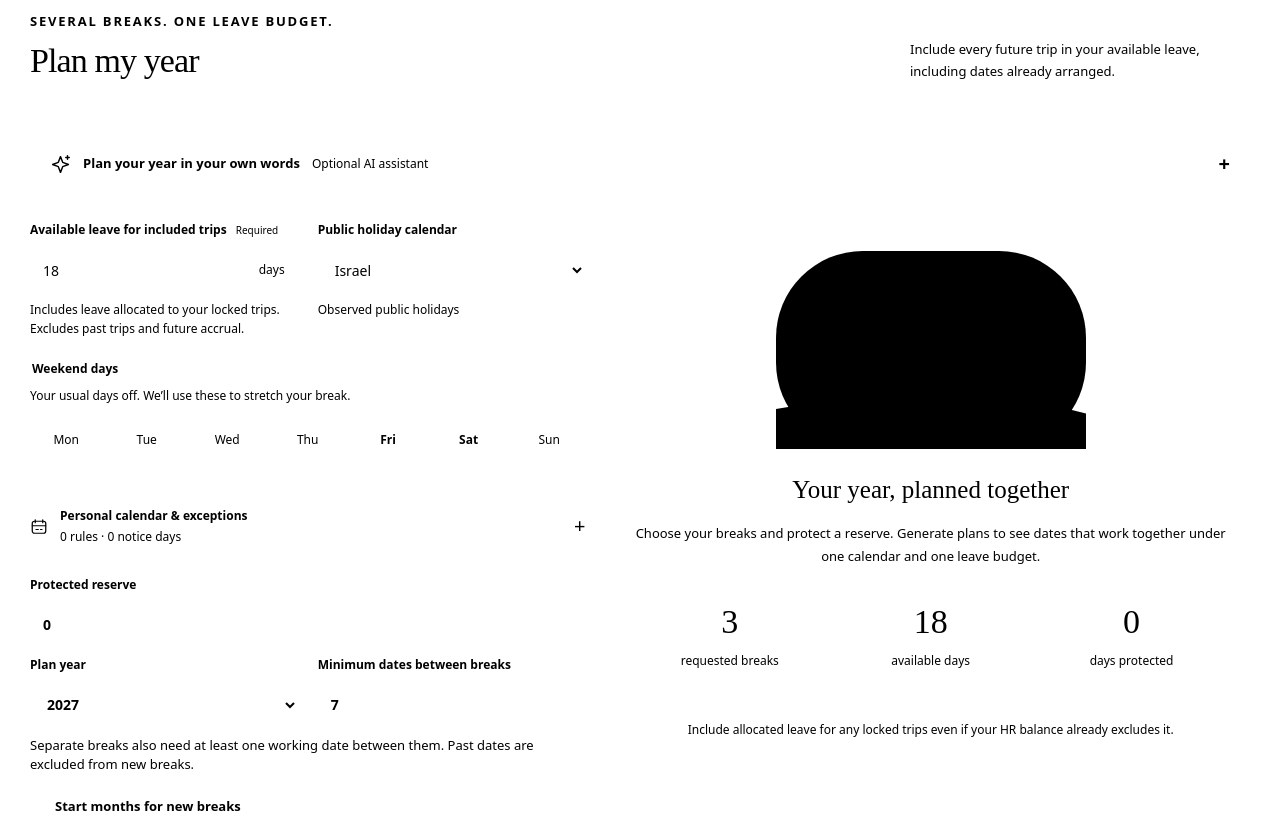
Test case: locking a calculated break only edits the draft until explicit recalculation
Replace the text in the number field labelled "Protected reserve" with "3" at (164, 625), box [30,602,298,648]
(page scrolled)
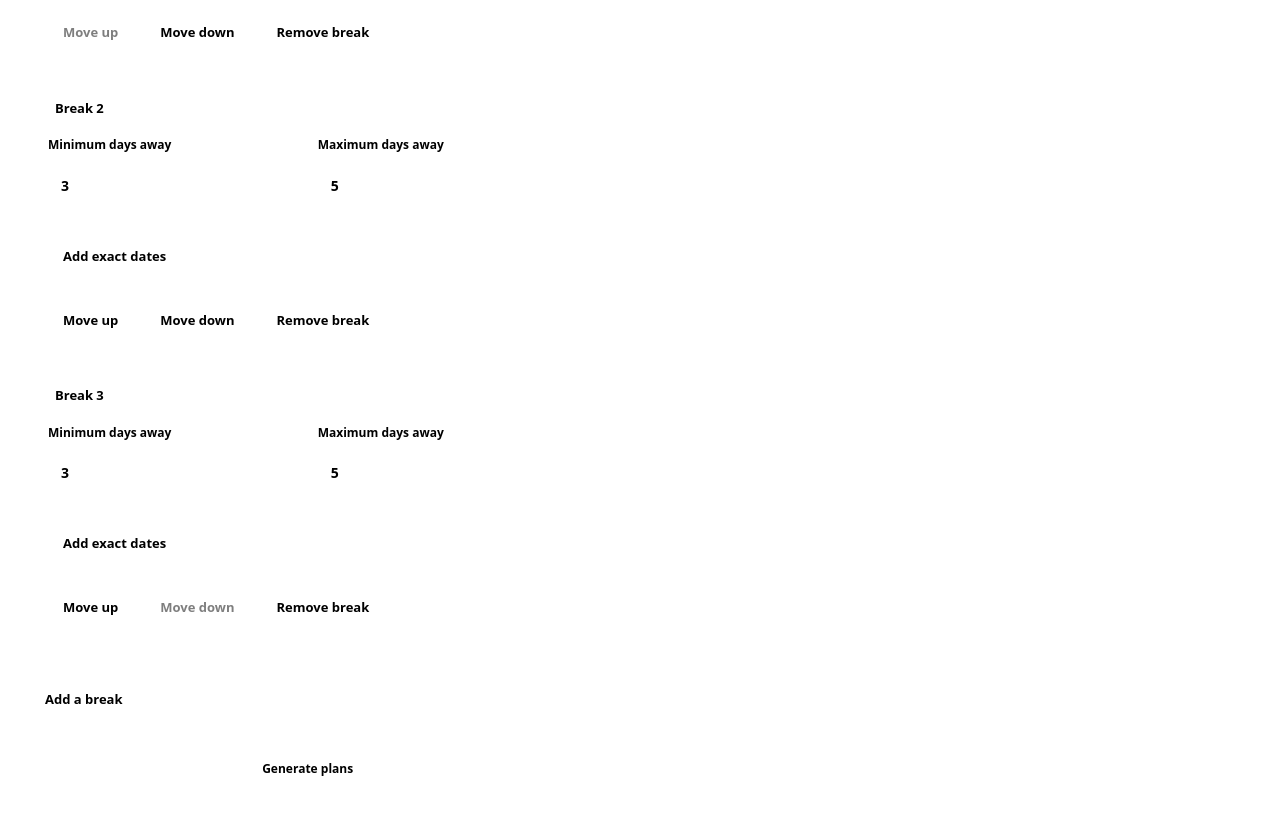
Click the button "Generate plans".
click(308, 769)  # box [30,746,585,792]
(page scrolled)
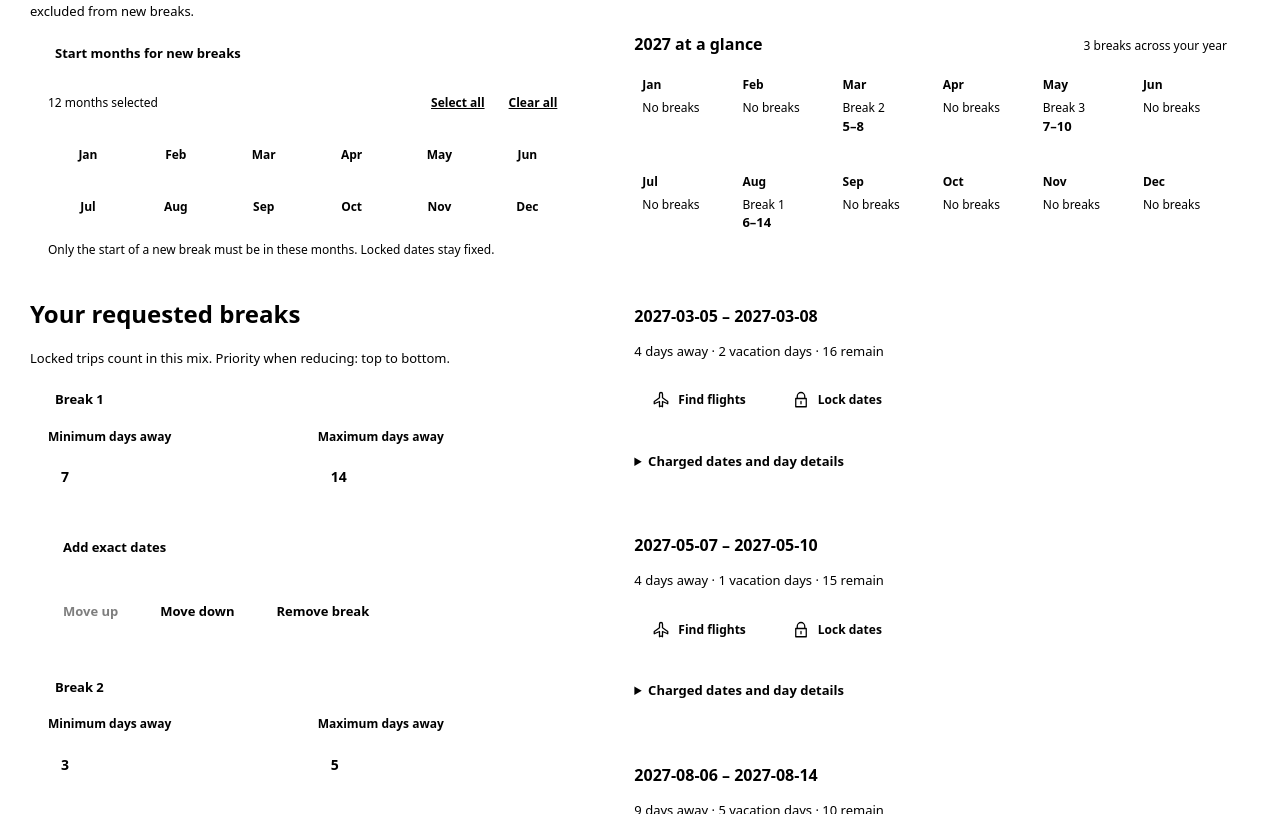
Click the button with aria-label "Lock Break 2 dates".
click(837, 400)  # box [774,377,900,423]
(page scrolled)
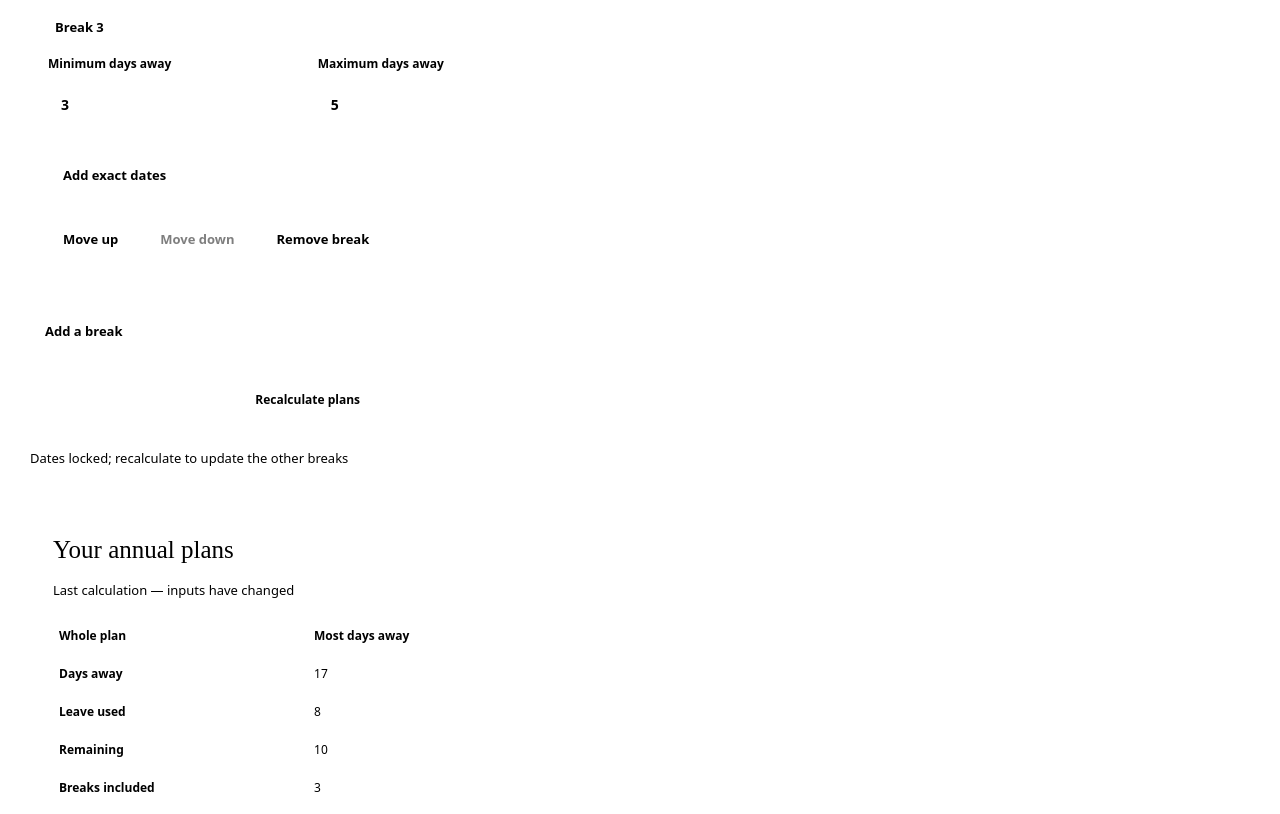
Check: the text "Last calculation — inputs have changed" is shown, box [53,581,294,599]
Click the button "Recalculate plans".
click(308, 400)  # box [30,378,585,424]
(page scrolled)
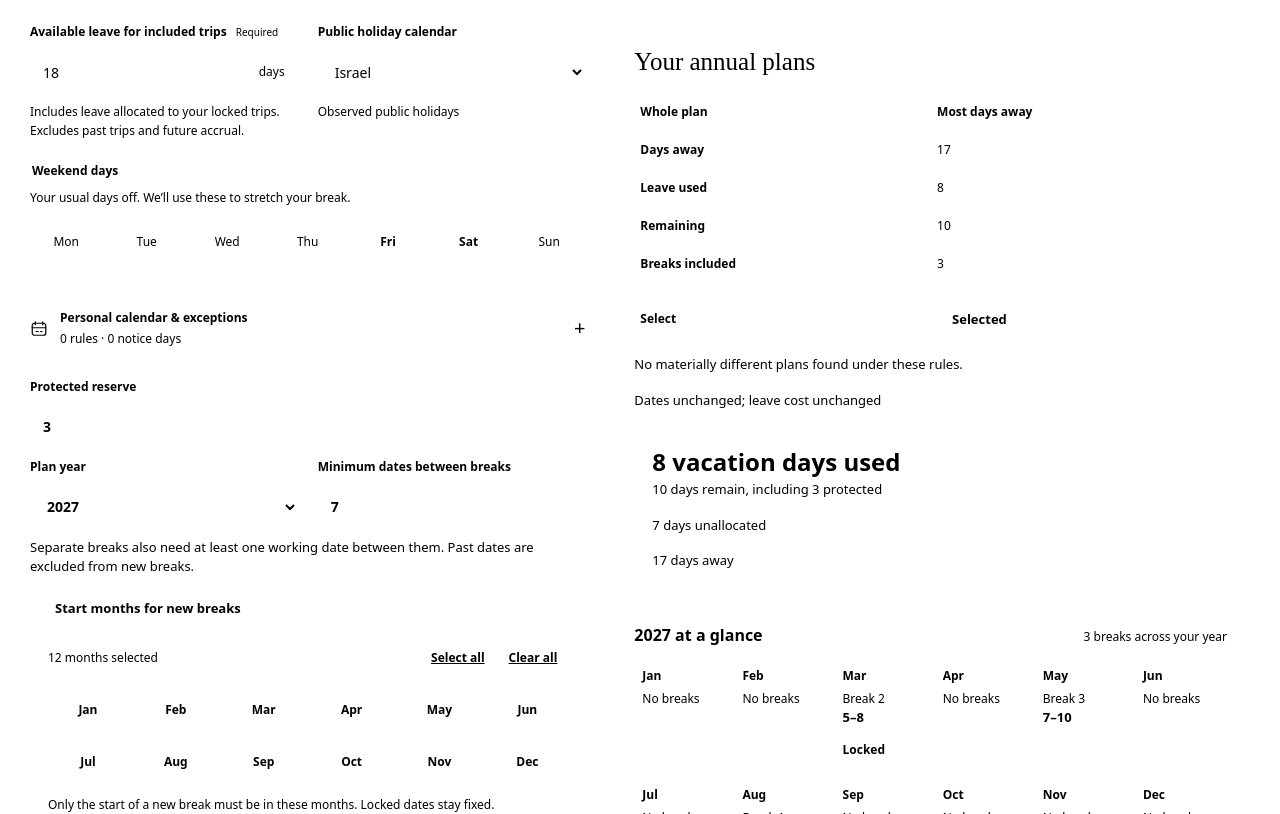
Check: the text "Dates unchanged; leave cost unchanged" is shown, box [634,391,881,409]
